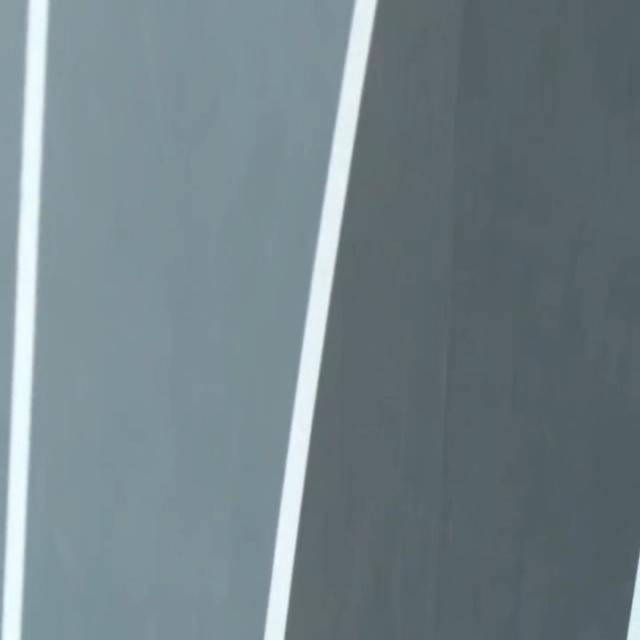center: (627, 555, 639, 639)
left: (264, 0, 377, 639)
